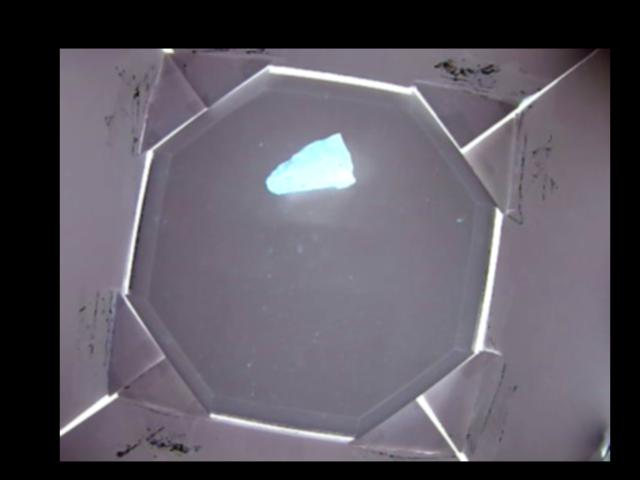Brisk: (265, 131, 355, 195)
